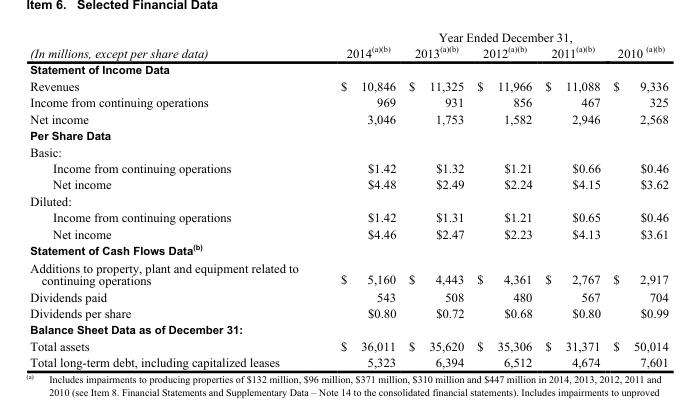table: (29, 29, 668, 369)
table column: (29, 29, 318, 369), (318, 29, 401, 369), (469, 29, 538, 369), (401, 29, 469, 369), (538, 29, 606, 369), (606, 29, 668, 369)
table column header: (29, 29, 668, 61)
table projected row header: (29, 142, 668, 159), (29, 241, 668, 258), (29, 61, 668, 77), (29, 126, 668, 142), (29, 192, 668, 208), (29, 321, 668, 337)
table row: (29, 258, 668, 288), (29, 43, 668, 61), (29, 93, 668, 110), (29, 142, 668, 159), (29, 175, 668, 192), (29, 208, 668, 225), (29, 241, 668, 258), (29, 304, 668, 321), (29, 337, 668, 354), (29, 61, 668, 77), (29, 77, 668, 93), (29, 110, 668, 126), (29, 126, 668, 142), (29, 159, 668, 175), (29, 192, 668, 208), (29, 225, 668, 241), (29, 288, 668, 304), (29, 321, 668, 337), (29, 354, 668, 369), (29, 29, 668, 43)
table spanning cell: (29, 29, 318, 61), (318, 29, 668, 43)
